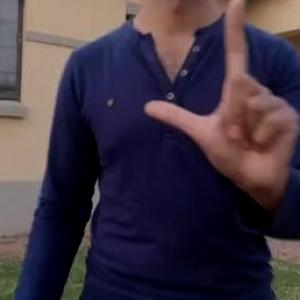land_hand: (139, 0, 299, 198)
